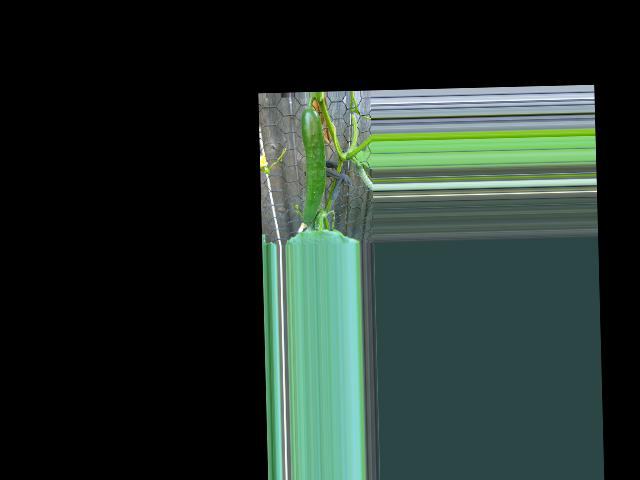cucumber: (299, 108, 328, 223)
